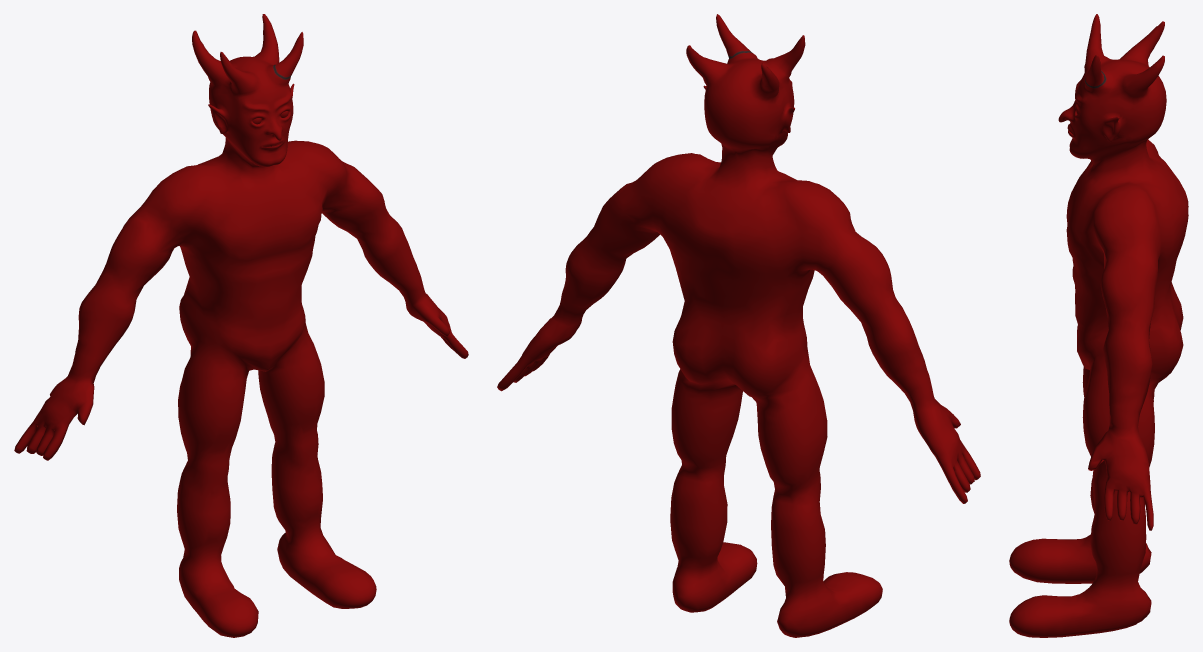
File: Diablo.fbx
3 views of the same model, side by side, from view 1: azimuth 30°, elevation 25°; view 2: azimuth 150°, elevation 25°; view 3: azimuth 270°, elevation 25° (orthographic). The views are drawn at different scales.
Parts seen in each view (by area): view 1: Diablo_LowPoly; view 2: Diablo_LowPoly; view 3: Diablo_LowPoly.
Boxes of the visible parts, x1,y1,x2,y2 form: Diablo_LowPoly: (14,14,468,637); Diablo_LowPoly: (497,14,980,637); Diablo_LowPoly: (1009,14,1188,637).
Size of the model in its own units: 167 by 201 by 57.19.
Materials: 1 (1 with a texture image).
